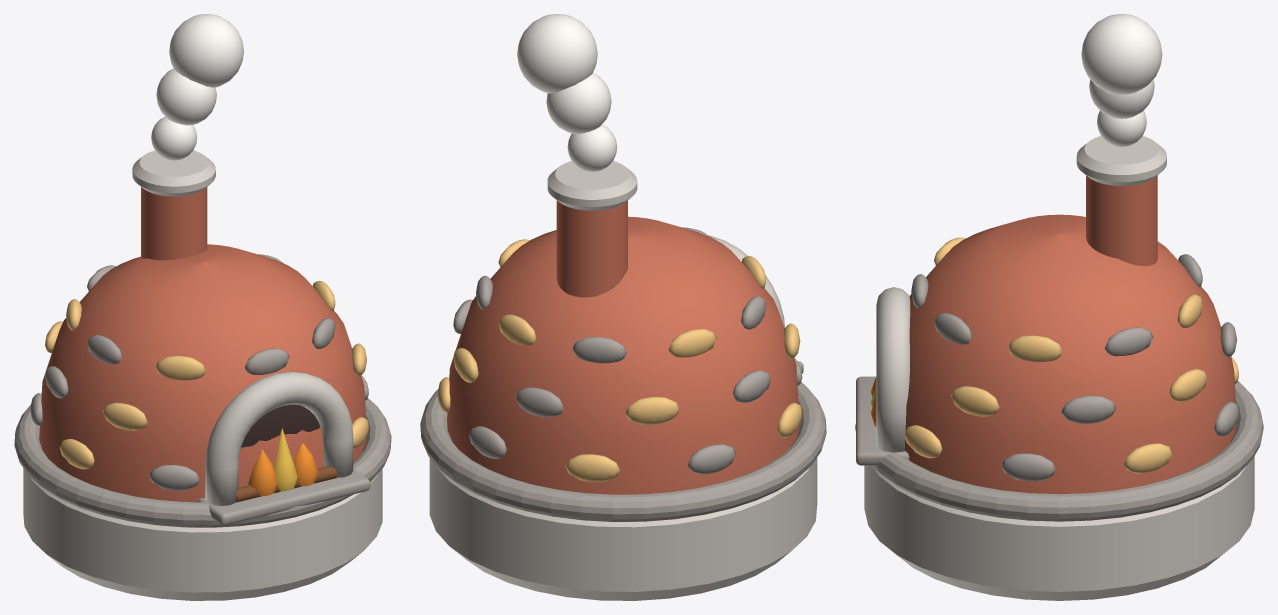
Rendered from stone_oven.fbx.
3 views of the same model, side by side, from view 1: azimuth 30°, elevation 25°; view 2: azimuth 150°, elevation 25°; view 3: azimuth 270°, elevation 25° (orthographic). The views are drawn at different scales.
Parts seen in each view (by area): view 1: stone_oven_Brick, stone_oven_Stone, stone_oven_StoneDark, stone_oven_White, stone_oven_CrustLight, stone_oven_Dark, stone_oven_Fire, stone_oven_Yellow, stone_oven_WoodDark; view 2: stone_oven_Brick, stone_oven_Stone, stone_oven_StoneDark, stone_oven_White, stone_oven_CrustLight; view 3: stone_oven_Brick, stone_oven_Stone, stone_oven_StoneDark, stone_oven_White, stone_oven_CrustLight.
Boxes of the visible parts, <box> form: stone_oven_Brick: <box>39,187,366,502</box>; stone_oven_Stone: <box>23,150,382,600</box>; stone_oven_StoneDark: <box>14,254,391,527</box>; stone_oven_White: <box>151,14,243,160</box>; stone_oven_CrustLight: <box>45,280,368,469</box>; stone_oven_Dark: <box>241,404,319,447</box>; stone_oven_Fire: <box>248,443,317,495</box>; stone_oven_Yellow: <box>274,428,297,491</box>; stone_oven_WoodDark: <box>236,466,337,502</box>; stone_oven_Brick: <box>447,200,799,494</box>; stone_oven_Stone: <box>429,161,817,600</box>; stone_oven_StoneDark: <box>420,227,826,521</box>; stone_oven_White: <box>517,14,617,171</box>; stone_oven_CrustLight: <box>437,239,802,482</box>; stone_oven_Brick: <box>904,175,1236,494</box>; stone_oven_Stone: <box>864,136,1254,600</box>; stone_oven_StoneDark: <box>855,254,1263,521</box>; stone_oven_White: <box>1081,14,1162,146</box>; stone_oven_CrustLight: <box>904,237,1238,473</box>.
Size of the model in its own units: 26.2 by 37.2 by 26.2.
